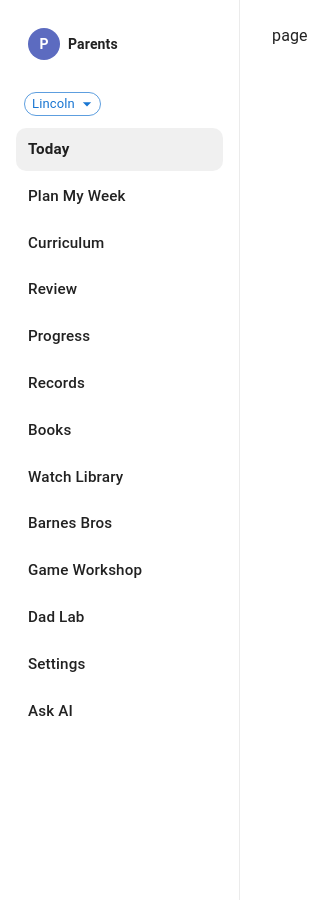
AppShell child chips (UX-324, switch forced on) › gives a single-child family a menu with no child in it (UX-425)
Click the button with aria-label "Switch child — currently Lincoln".
click(62, 104)  # box [24,92,101,116]
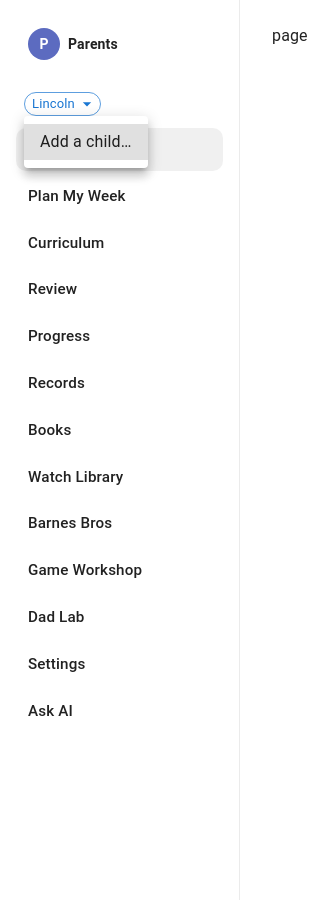
expect the menu items read "Add a child…", in this order: met, box [24,124,148,160]
